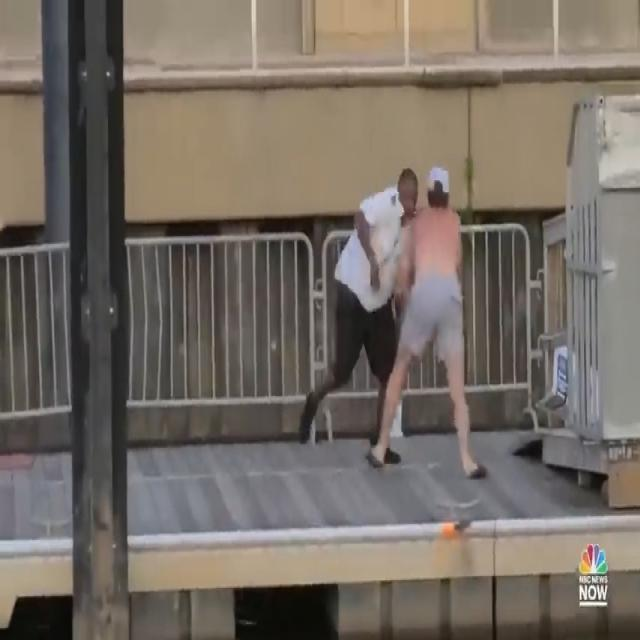fight: (298, 147, 497, 490)
